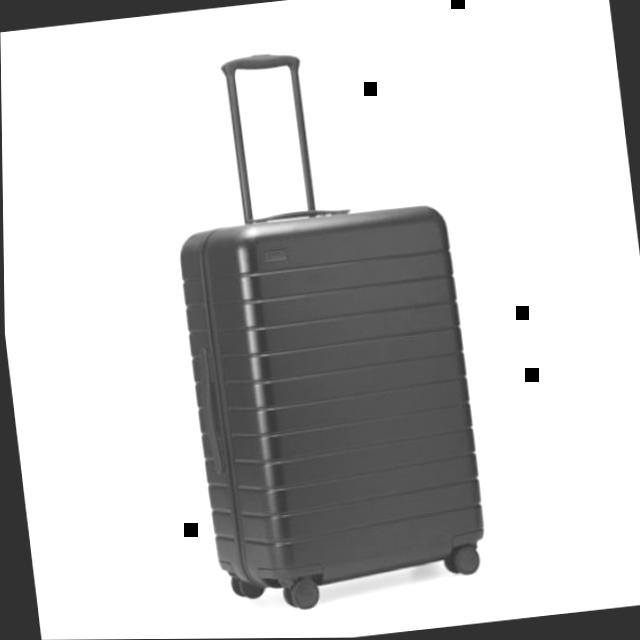luggage: (161, 185, 503, 608)
